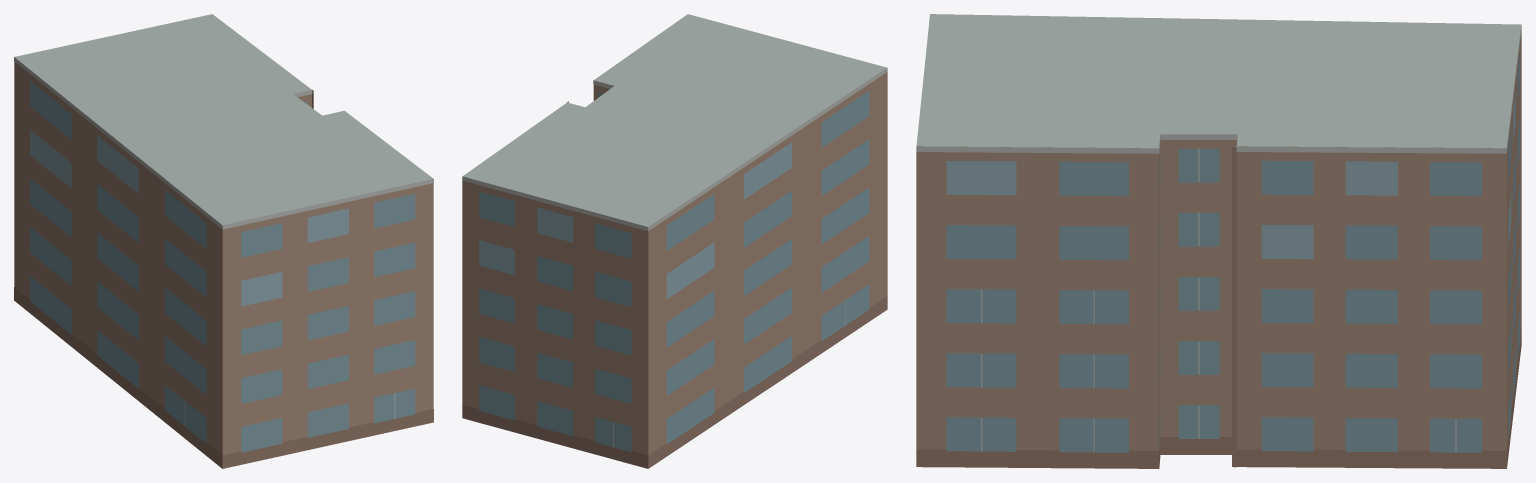
Rendered from survey-upis-33024918.glb.
3 renders of one model, left to right at view 1: azimuth 30°, elevation 25°; view 2: azimuth 150°, elevation 25°; view 3: azimuth 270°, elevation 25°, orthographic. The views are drawn at different scales.
Visible parts, largest first — view 1: survey-upis-33024918.tmp; view 2: survey-upis-33024918.tmp; view 3: survey-upis-33024918.tmp.
Part boxes in pixels (<box>): survey-upis-33024918.tmp: <box>14,14,433,468</box>; survey-upis-33024918.tmp: <box>462,14,887,468</box>; survey-upis-33024918.tmp: <box>916,14,1521,468</box>.
Size of the model in its own units: 12.67 by 14.1 by 24.13.
